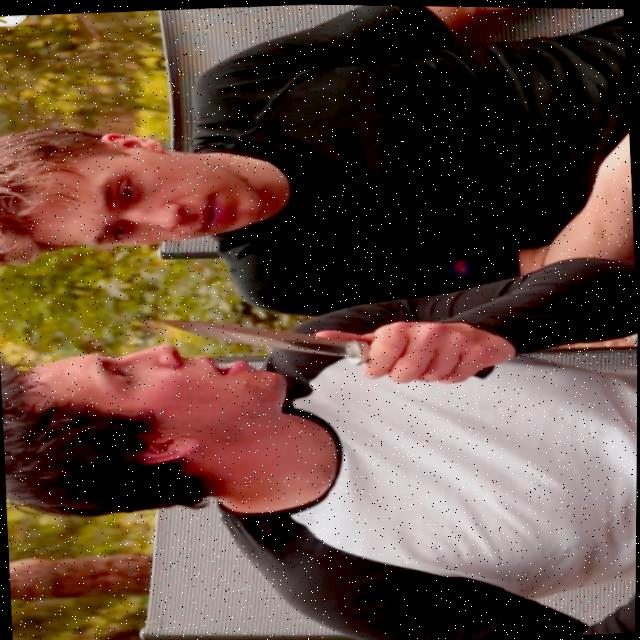knife: (164, 307, 371, 375)
